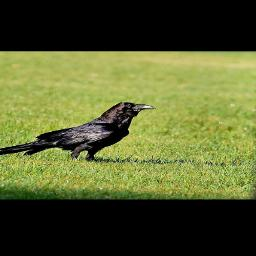Crow: (0, 101, 158, 163)
